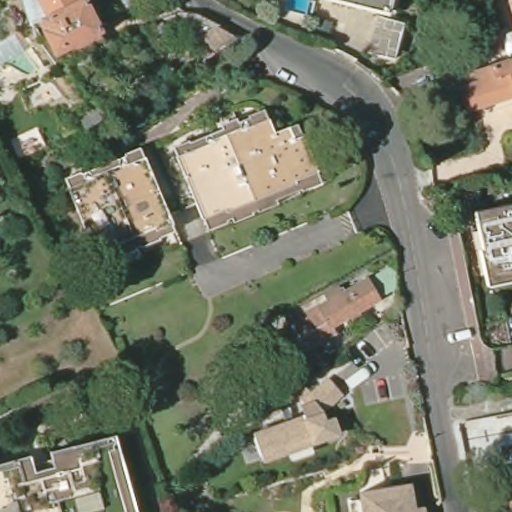pool: (283, 1, 315, 21)
